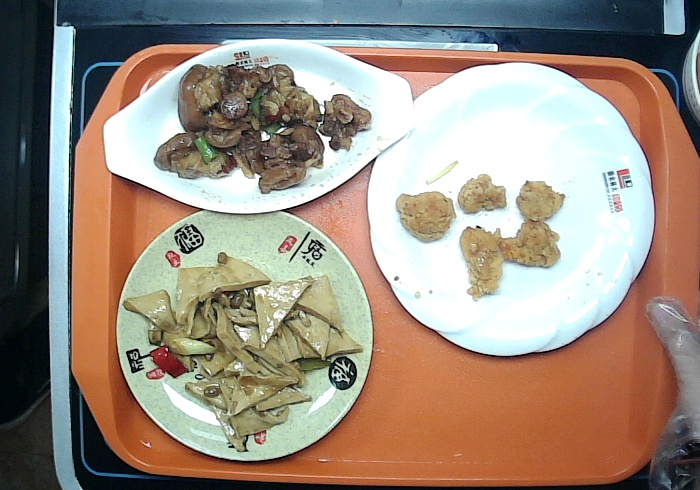NLDX-Bai_Zhe_Yuan_Pan: (368, 62, 659, 355)
NLDX-Fu_Zi_Yuan_Pan: (110, 211, 380, 462)
NLDX-Yu_Pan: (99, 45, 413, 208)
